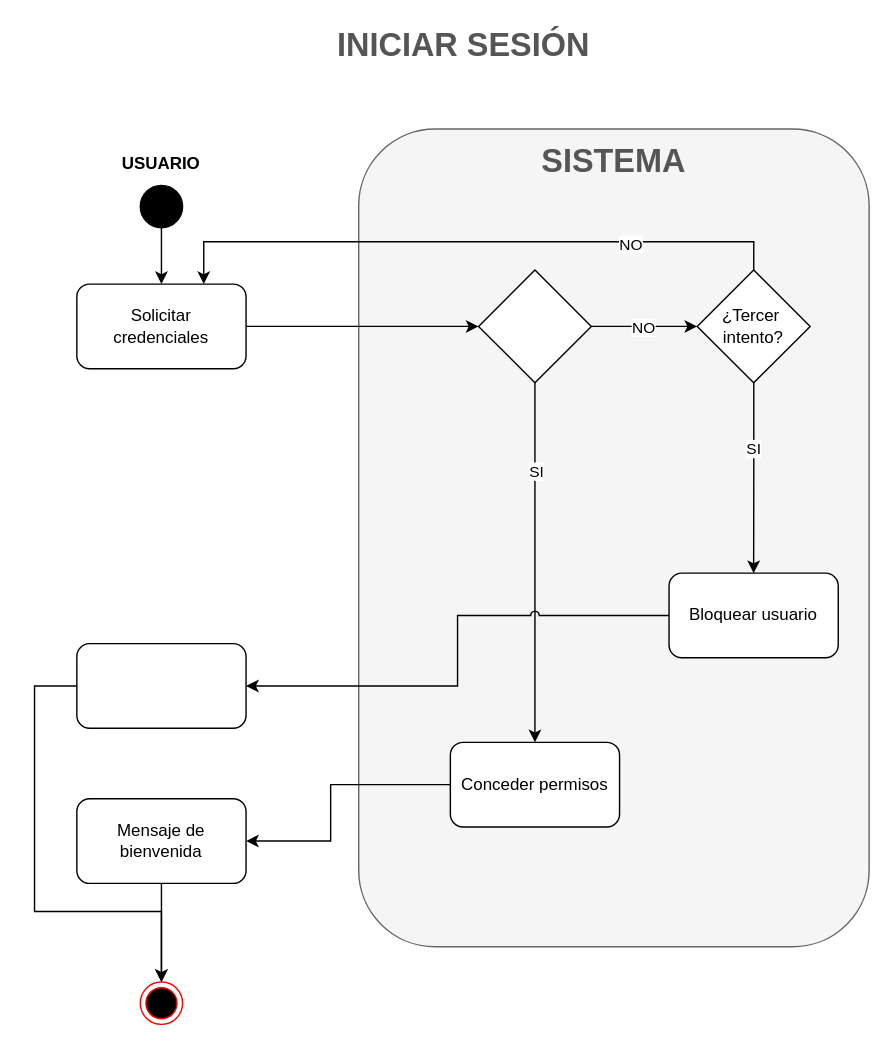
The diagram is 894 pixels wide and 1049 high, and some of its shapes have lost their labels. The shapes that lost their labels are listed below. From the top down, each one's centre as x and y in pixels, then its label:
point (534, 326): Son correctas
point (160, 685): Mensaje de entrada denegada
